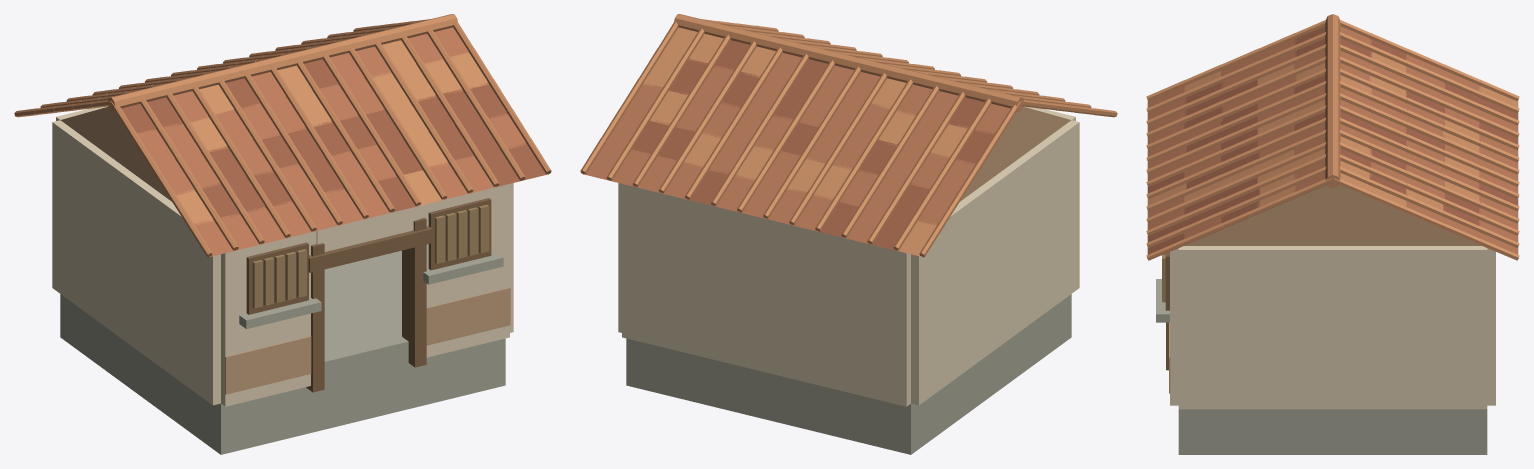
The model's file is storehouse.glb.
The picture shows the model from 3 angles, left to right: view 1: azimuth 30°, elevation 25°; view 2: azimuth 150°, elevation 25°; view 3: azimuth 270°, elevation 25°; orthographic projection. The views are drawn at different scales.
Parts seen in each view (by area): view 1: OliveStore; view 2: OliveStore; view 3: OliveStore.
Part boxes in pixels (x1,y1,x2,y2): OliveStore: (14, 14, 551, 454); OliveStore: (580, 14, 1117, 454); OliveStore: (1146, 14, 1519, 454).
Size of the model in its own units: 5.32 by 4.52 by 5.2.
